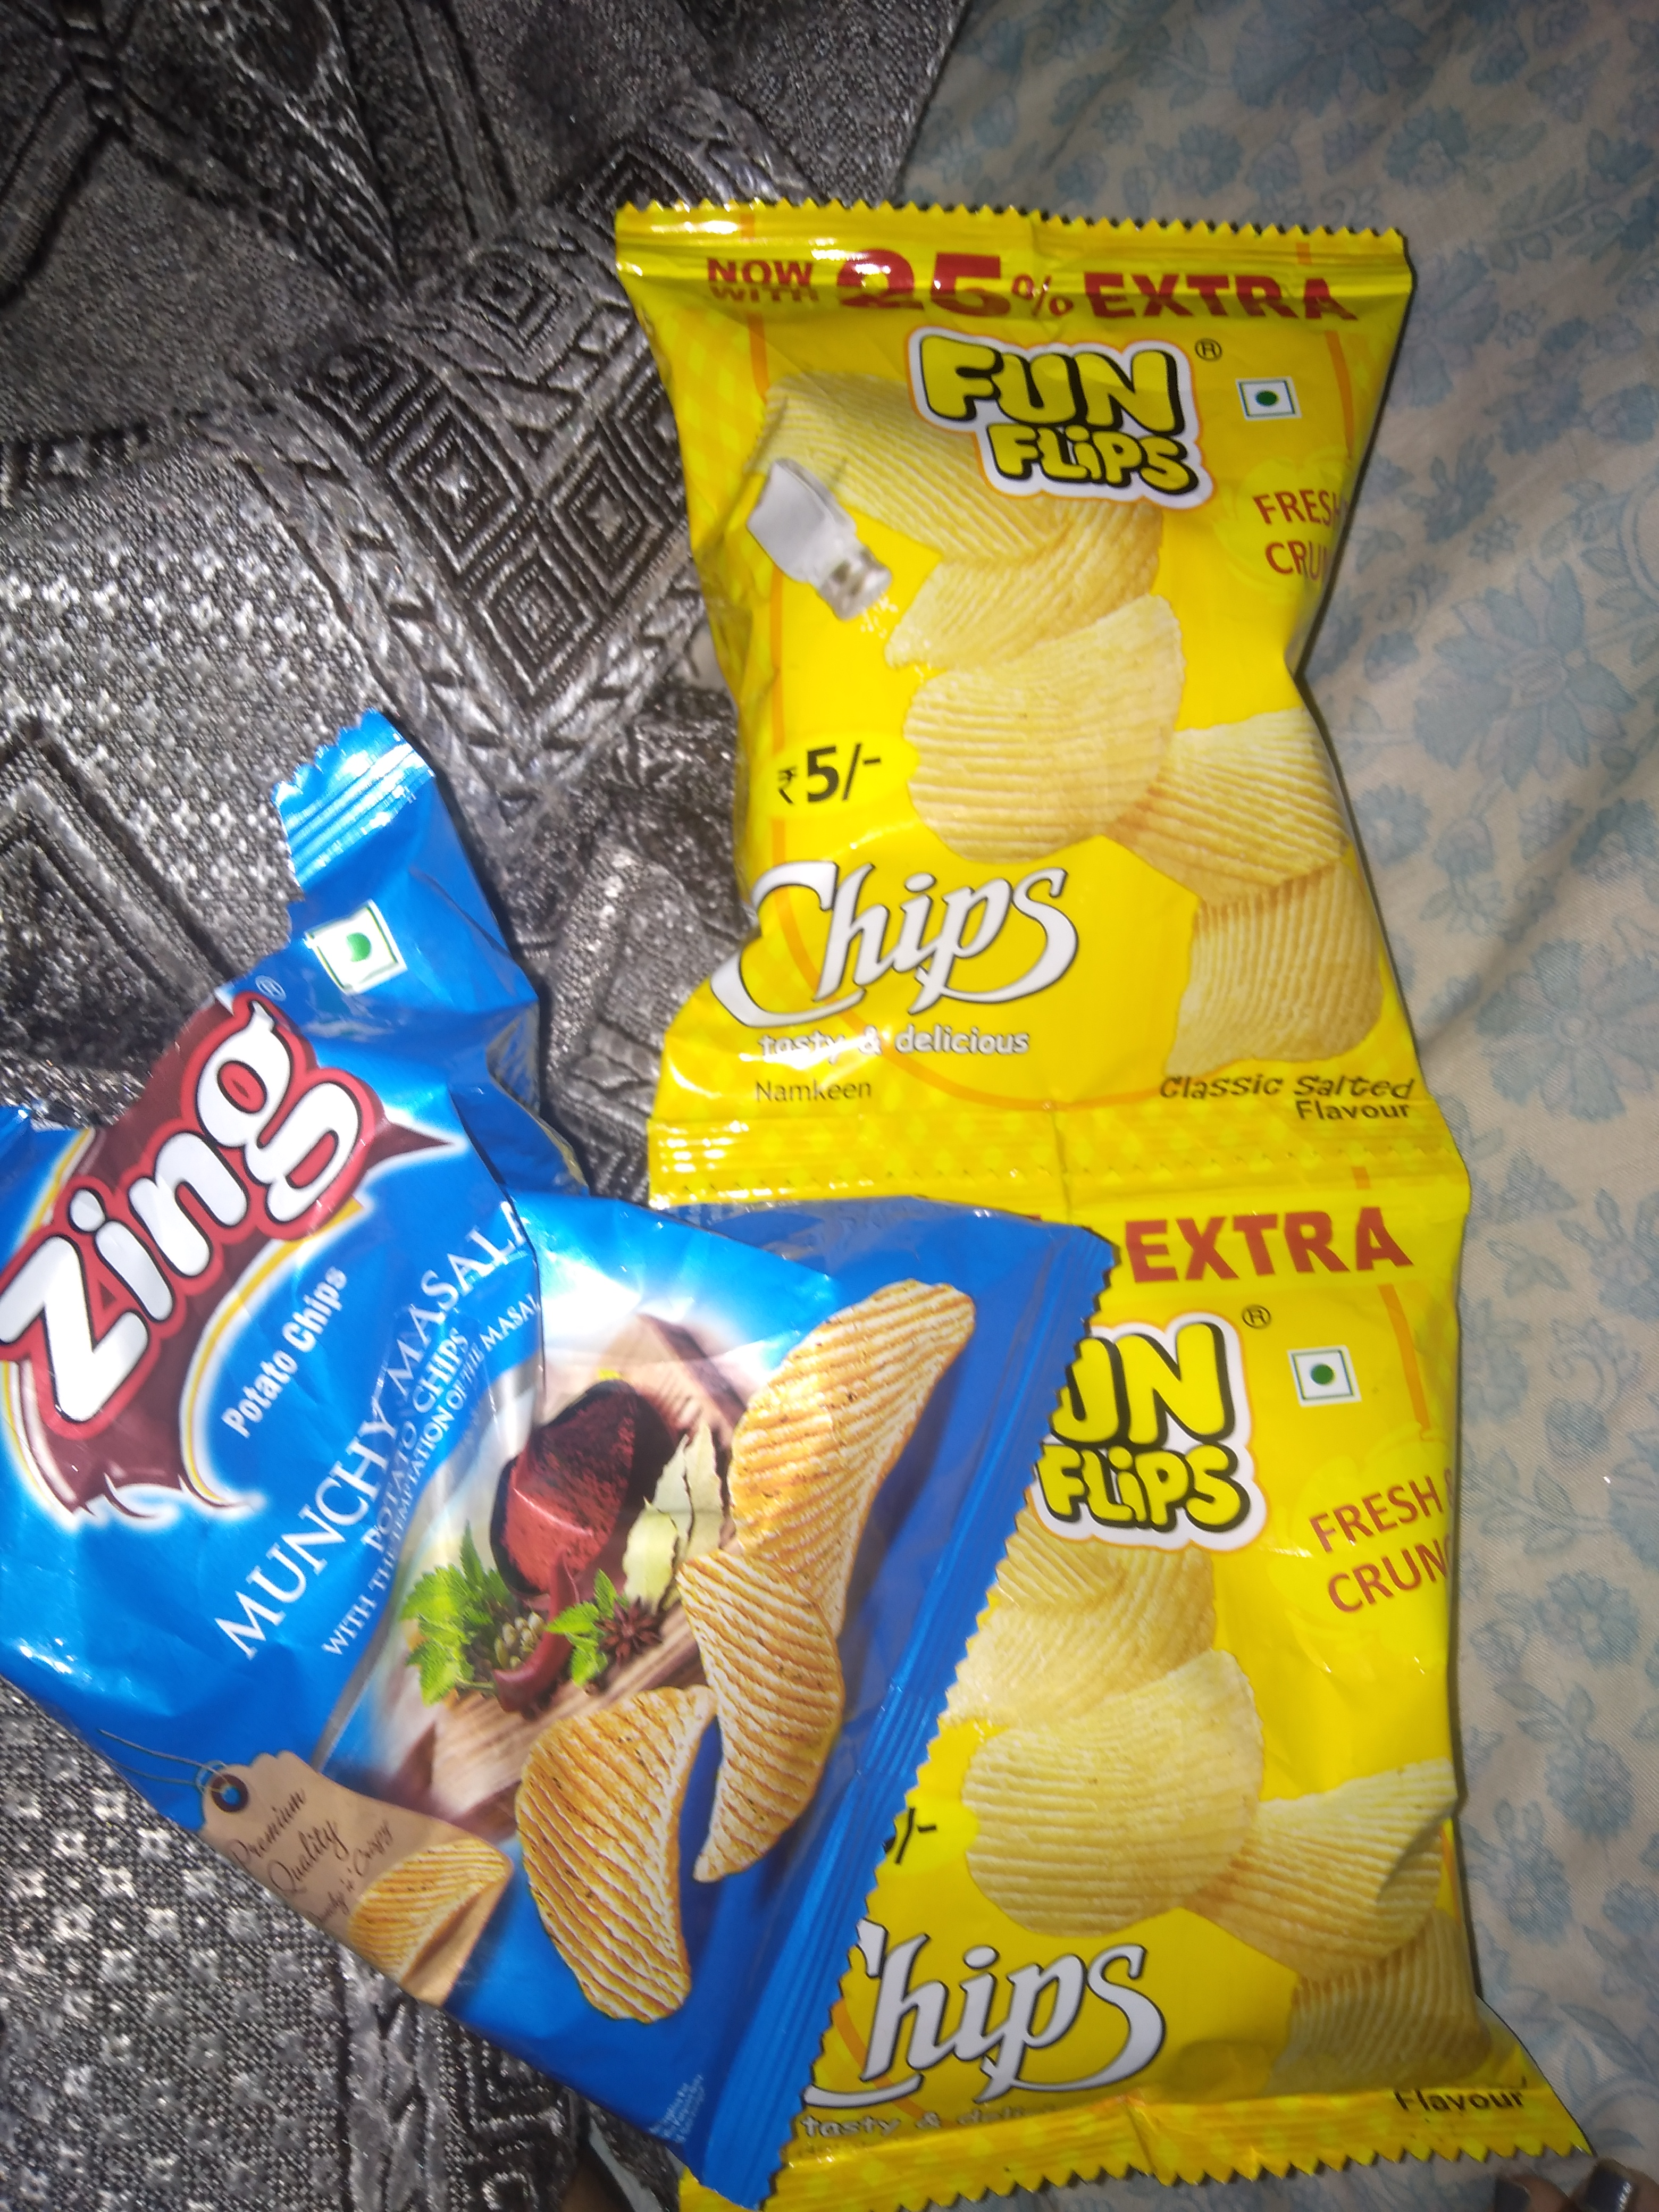food: (0, 697, 1131, 2210), (636, 1122, 1608, 2210), (579, 188, 1516, 1211)
